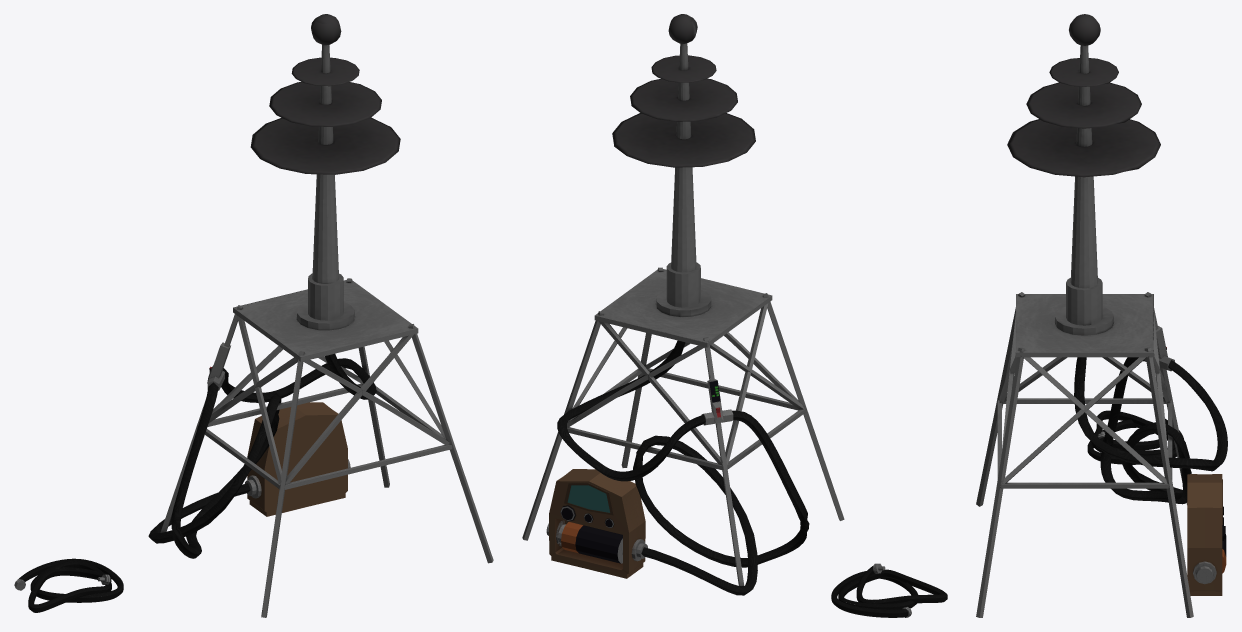
The model's file is Transmitter2.fbx.
3 views of the same model, side by side, from view 1: azimuth 30°, elevation 25°; view 2: azimuth 150°, elevation 25°; view 3: azimuth 270°, elevation 25° (orthographic). The views are drawn at different scales.
Parts seen in each view (by area): view 1: Stand, Antennae, Modulator, Cables_Applied, Cables_Item; view 2: Stand, Antennae, Cables_Applied, Modulator, Cables_Item, Battery; view 3: Stand, Antennae, Cables_Applied, Modulator, Cables_Item.
Part boxes in pixels (x1,y1,x2,y2): Stand: (160, 278, 493, 617); Antennae: (250, 14, 400, 330); Modulator: (245, 402, 350, 516); Cables_Applied: (148, 353, 376, 558); Cables_Item: (14, 558, 123, 612); Stand: (522, 267, 844, 585); Antennae: (612, 14, 755, 316); Cables_Applied: (557, 340, 809, 595); Modulator: (546, 469, 647, 578); Cables_Item: (831, 563, 947, 617); Battery: (558, 522, 622, 563); Stand: (976, 292, 1193, 617); Antennae: (1007, 14, 1160, 335); Cables_Applied: (1074, 357, 1227, 504); Modulator: (1187, 474, 1225, 595); Cables_Item: (1087, 410, 1183, 464).
Size of the model in its own units: 412 by 527 by 220.
